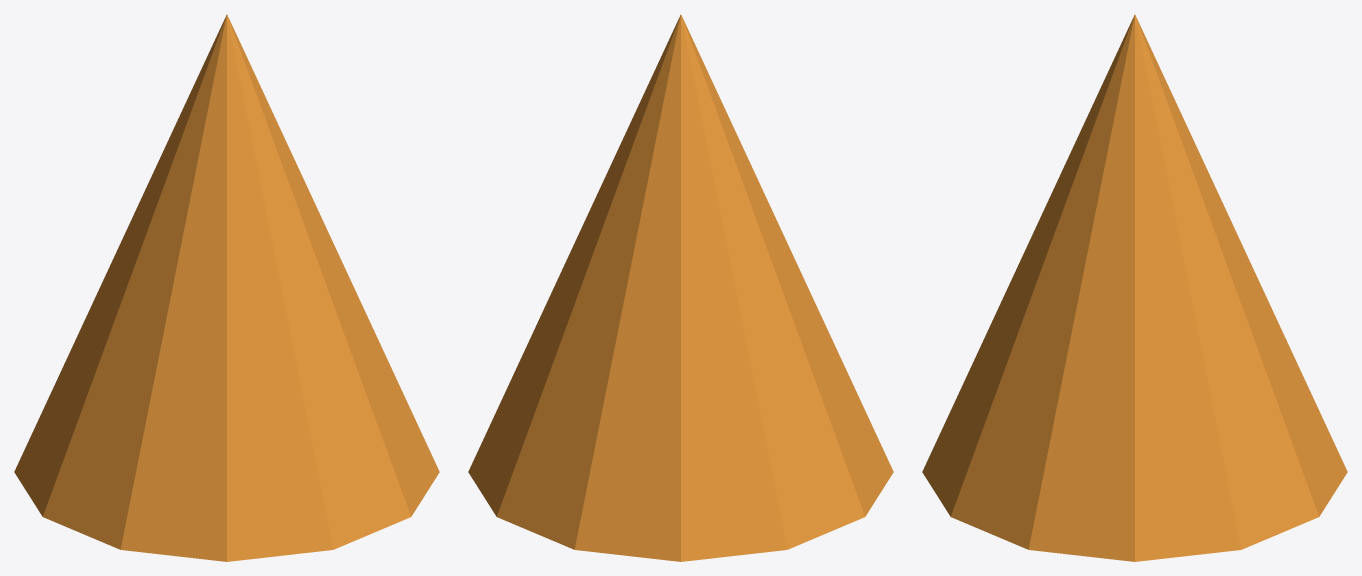
The picture shows the model from 3 angles, left to right: view 1: azimuth 30°, elevation 25°; view 2: azimuth 150°, elevation 25°; view 3: azimuth 270°, elevation 25°; orthographic projection.
Visible parts, largest first — view 1: cone; view 2: cone; view 3: cone.
Part boxes in pixels (bbox=[...]): cone: bbox=[14, 14, 439, 561]; cone: bbox=[468, 14, 893, 561]; cone: bbox=[922, 14, 1347, 561].
Bounding box in the file's own units: 0.8 × 0.95 × 0.8.
Materials: 1 (1 with a texture image).
